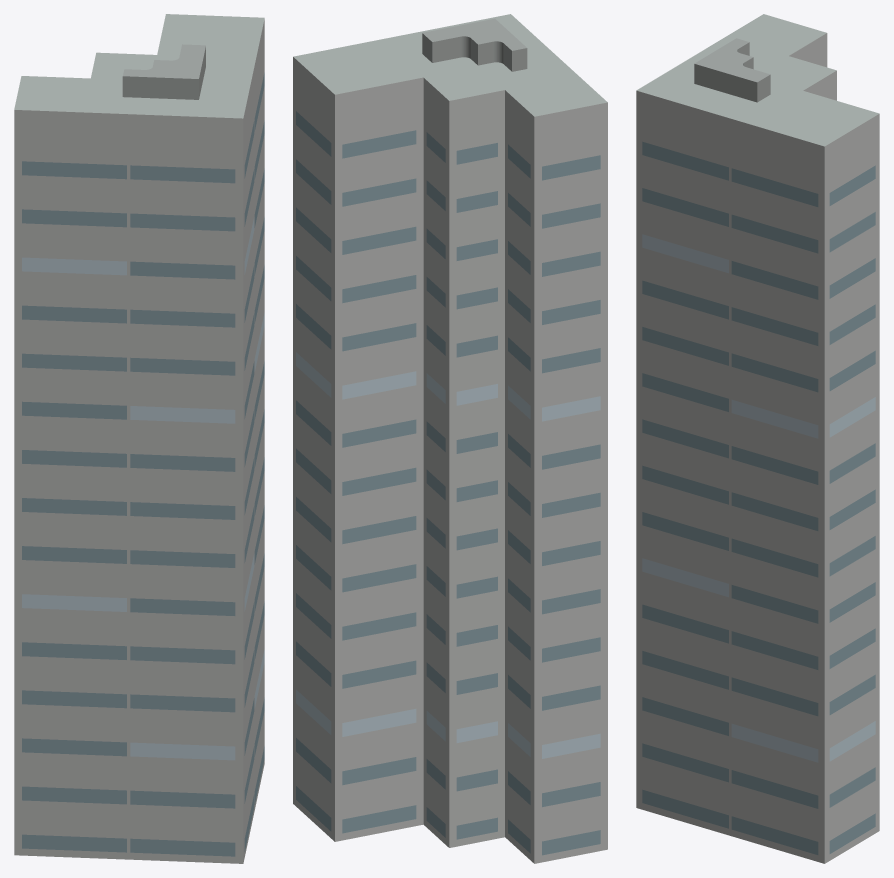
The model's file is fallback-prestige-102.glb.
The picture shows the model from 3 angles, left to right: view 1: azimuth 30°, elevation 25°; view 2: azimuth 150°, elevation 25°; view 3: azimuth 270°, elevation 25°; orthographic projection. The views are drawn at different scales.
Visible parts, largest first — view 1: fallback-prestige-102; view 2: fallback-prestige-102; view 3: fallback-prestige-102.
Boxes of the visible parts, bbox=[...] form: fallback-prestige-102: bbox=[14, 14, 264, 863]; fallback-prestige-102: bbox=[293, 14, 607, 863]; fallback-prestige-102: bbox=[636, 14, 879, 863].
Bounding box in the file's own units: 33.93 × 88 × 26.33.
